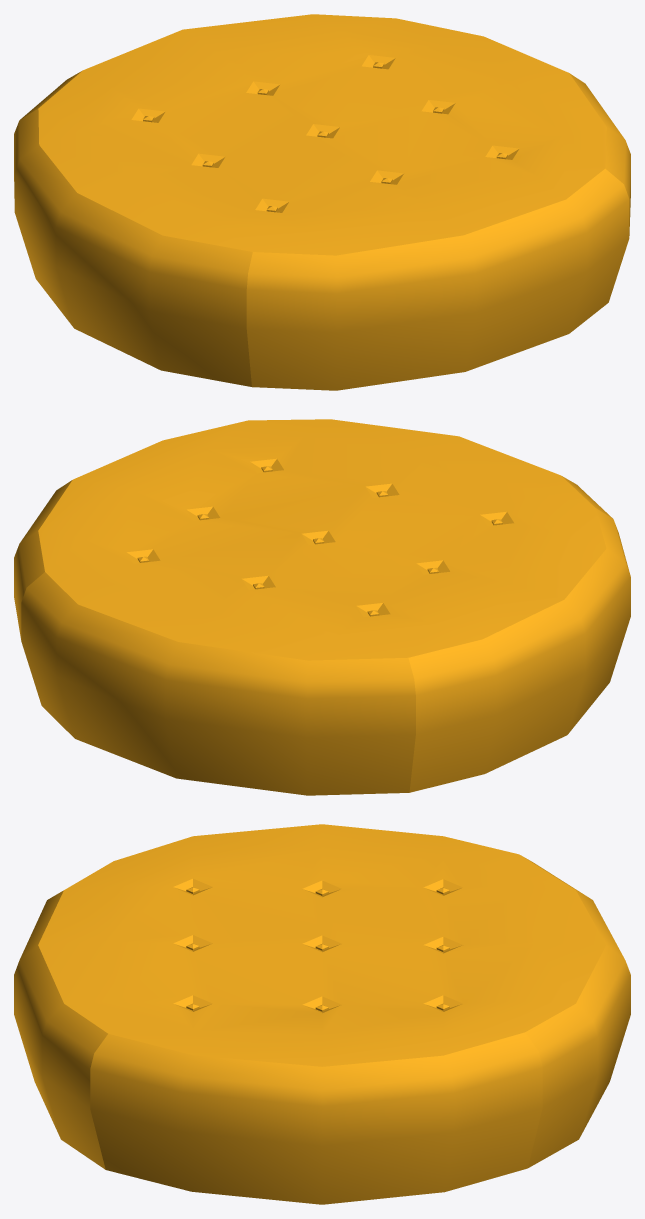
File: AIUE_V1_005_pouf.fbx
3 views of the same model, one above another, from view 1: azimuth 30°, elevation 25°; view 2: azimuth 150°, elevation 25°; view 3: azimuth 270°, elevation 25° (orthographic).
Visible parts, largest first — view 1: Rectangle002; view 2: Rectangle002; view 3: Rectangle002.
Boxes of the visible parts, x1=… form: Rectangle002: x1=14, y1=14, x2=630, y2=390; Rectangle002: x1=14, y1=419, x2=630, y2=795; Rectangle002: x1=14, y1=824, x2=630, y2=1204.
Size of the model in its own units: 153 by 38.18 by 152.
